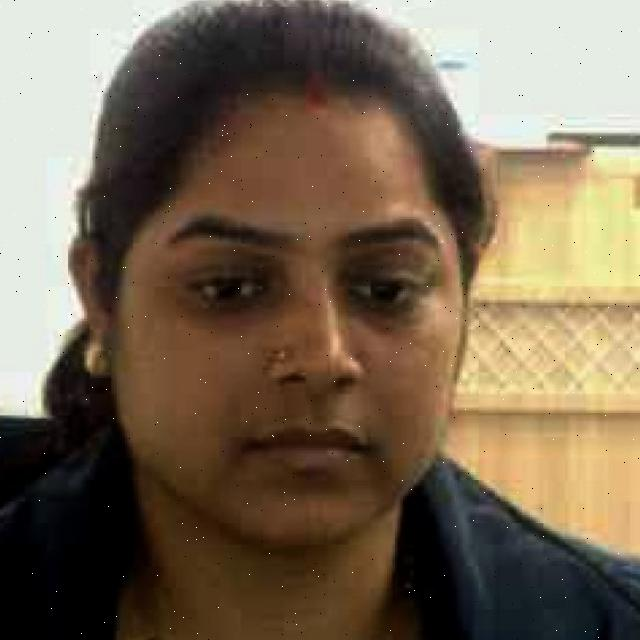puffy_eyes: (195, 293, 279, 331), (347, 300, 426, 332)
